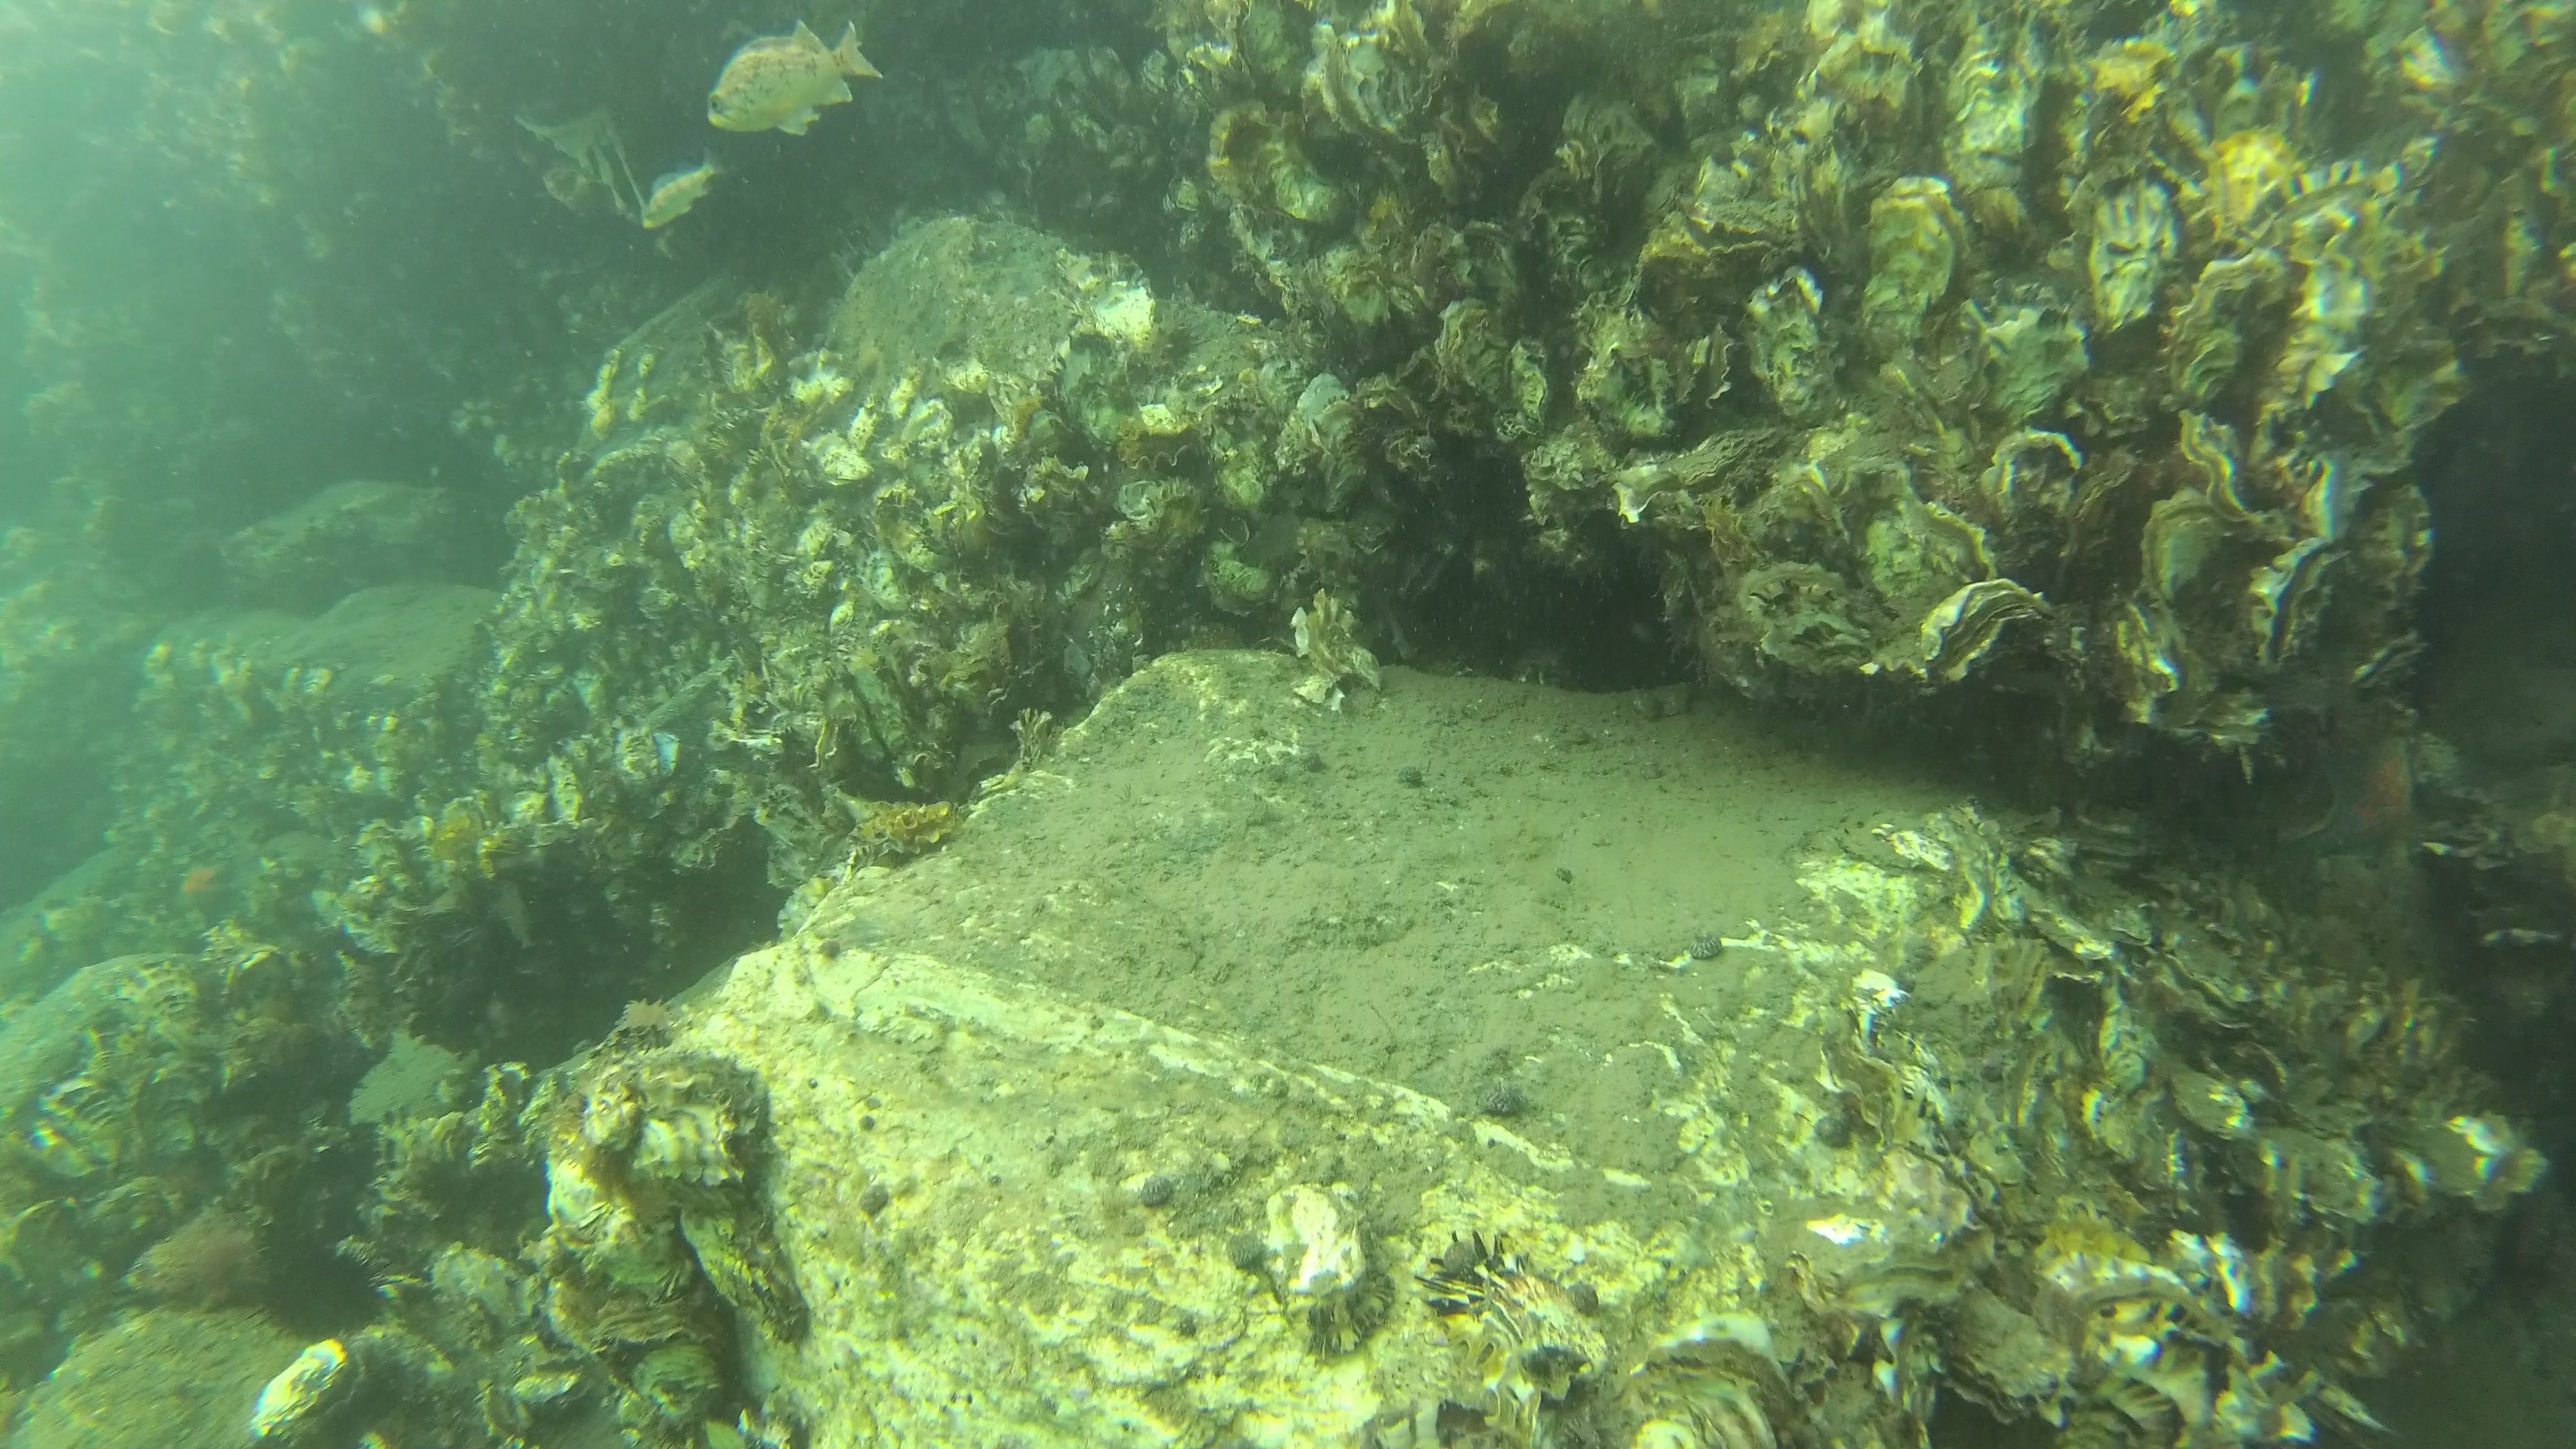starfish: (2277, 717, 2426, 862), (175, 856, 235, 913)
